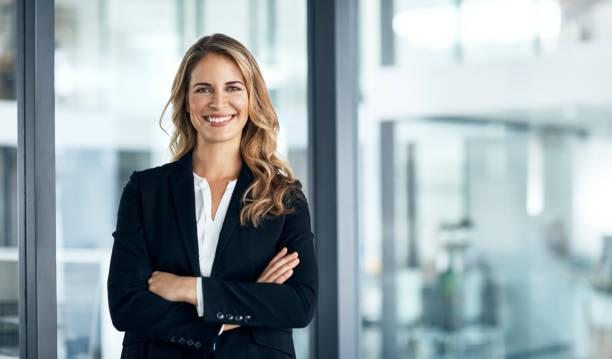no_goggle: (188, 72, 254, 100)
no_helmet: (171, 27, 268, 77)
no_vest: (112, 154, 322, 359)
